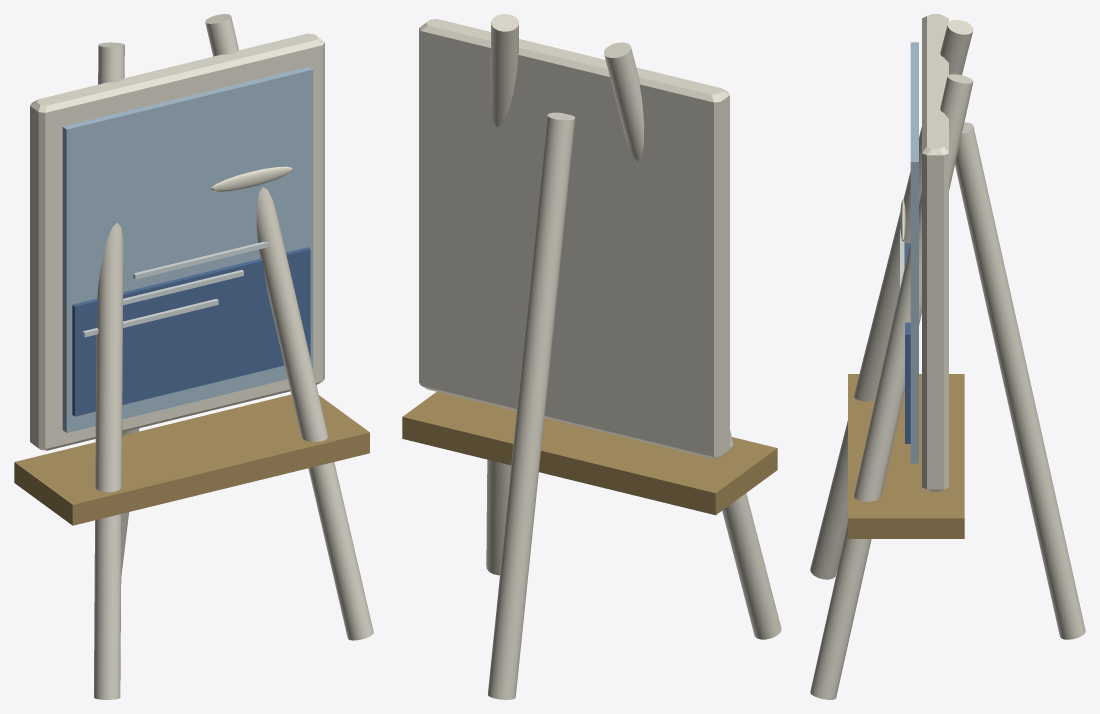
The model's file is v18_easel.glb.
3 renders of one model, left to right at view 1: azimuth 30°, elevation 25°; view 2: azimuth 150°, elevation 25°; view 3: azimuth 270°, elevation 25°, orthographic. The views are drawn at different scales.
Visible parts, largest first — view 1: _MeshInstance3D_2149, _MeshInstance3D_2148, _MeshInstance3D_2147, _MeshInstance3D_2150, _MeshInstance3D_2144, _MeshInstance3D_2145, _MeshInstance3D_2151, _MeshInstance3D_2154, _MeshInstance3D_2153, _MeshInstance3D_2152; view 2: _MeshInstance3D_2148, _MeshInstance3D_2147, _MeshInstance3D_2146, _MeshInstance3D_2144, _MeshInstance3D_2145; view 3: _MeshInstance3D_2146, _MeshInstance3D_2148, _MeshInstance3D_2145, _MeshInstance3D_2147, _MeshInstance3D_2144, _MeshInstance3D_2149, _MeshInstance3D_2150.
Boxes of the visible parts, bbox=[...] form: _MeshInstance3D_2149: bbox=[62, 66, 313, 432]; _MeshInstance3D_2148: bbox=[30, 33, 324, 450]; _MeshInstance3D_2147: bbox=[14, 394, 369, 525]; _MeshInstance3D_2150: bbox=[72, 247, 310, 416]; _MeshInstance3D_2144: bbox=[94, 42, 124, 699]; _MeshInstance3D_2145: bbox=[205, 14, 373, 640]; _MeshInstance3D_2151: bbox=[210, 166, 292, 191]; _MeshInstance3D_2154: bbox=[133, 242, 269, 279]; _MeshInstance3D_2153: bbox=[123, 270, 243, 305]; _MeshInstance3D_2152: bbox=[82, 298, 218, 337]; _MeshInstance3D_2148: bbox=[419, 19, 729, 458]; _MeshInstance3D_2147: bbox=[402, 392, 777, 515]; _MeshInstance3D_2146: bbox=[488, 112, 575, 699]; _MeshInstance3D_2144: bbox=[604, 42, 781, 639]; _MeshInstance3D_2145: bbox=[486, 14, 518, 575]; _MeshInstance3D_2146: bbox=[955, 122, 1085, 639]; _MeshInstance3D_2148: bbox=[922, 14, 948, 491]; _MeshInstance3D_2145: bbox=[810, 74, 973, 699]; _MeshInstance3D_2147: bbox=[848, 374, 964, 538]; _MeshInstance3D_2144: bbox=[810, 19, 973, 579]; _MeshInstance3D_2149: bbox=[910, 42, 918, 463]; _MeshInstance3D_2150: bbox=[905, 243, 910, 443].
Bounding box in the file's own units: 0.8402 × 1.59 × 0.679.
